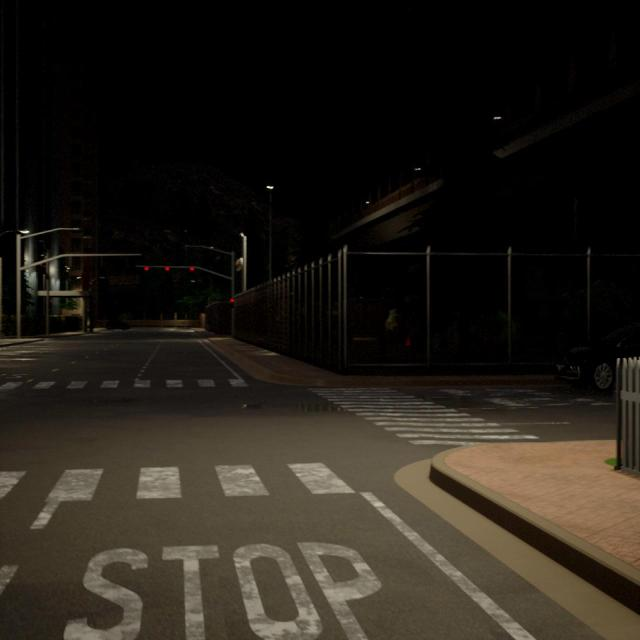Vehicle: (562, 330, 640, 391), (105, 320, 130, 329)
traffic_light: (238, 258, 243, 270), (230, 299, 235, 309), (164, 266, 170, 272), (49, 298, 52, 310), (40, 264, 43, 274), (43, 264, 46, 274), (189, 267, 195, 271), (236, 260, 238, 272), (144, 267, 149, 271)
